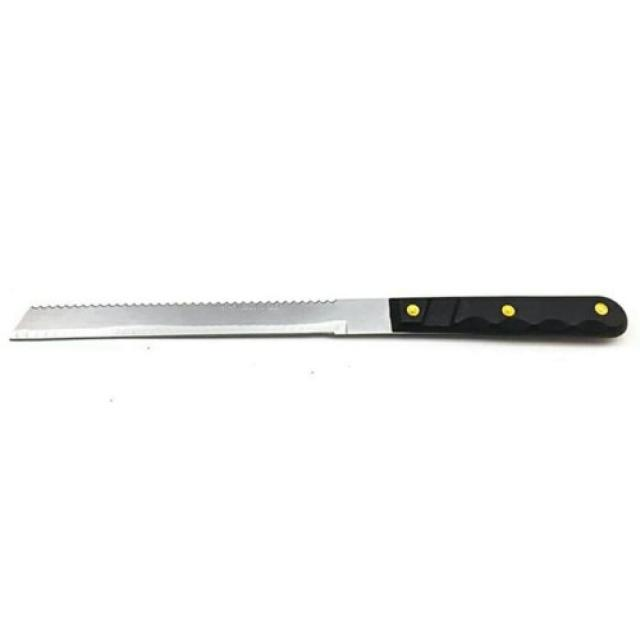Knife: (9, 292, 628, 343)
